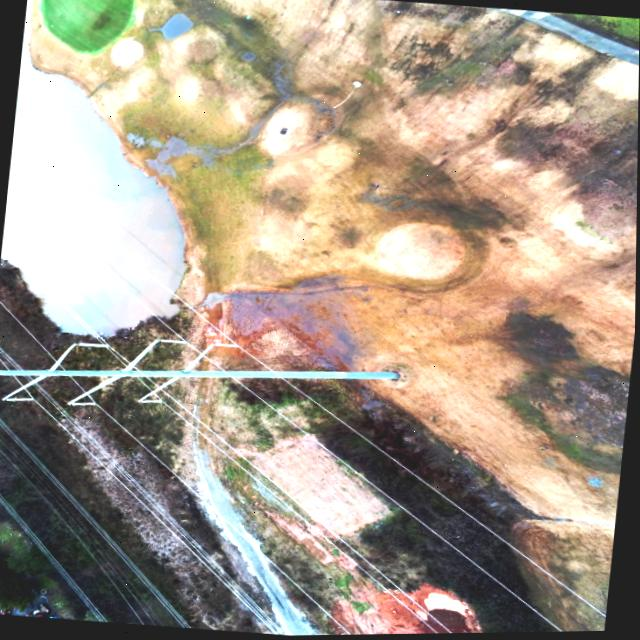poles: (0, 329, 411, 413)
wires: (224, 378, 575, 634), (167, 398, 481, 635), (63, 413, 375, 636), (296, 399, 604, 613), (2, 173, 255, 357)
